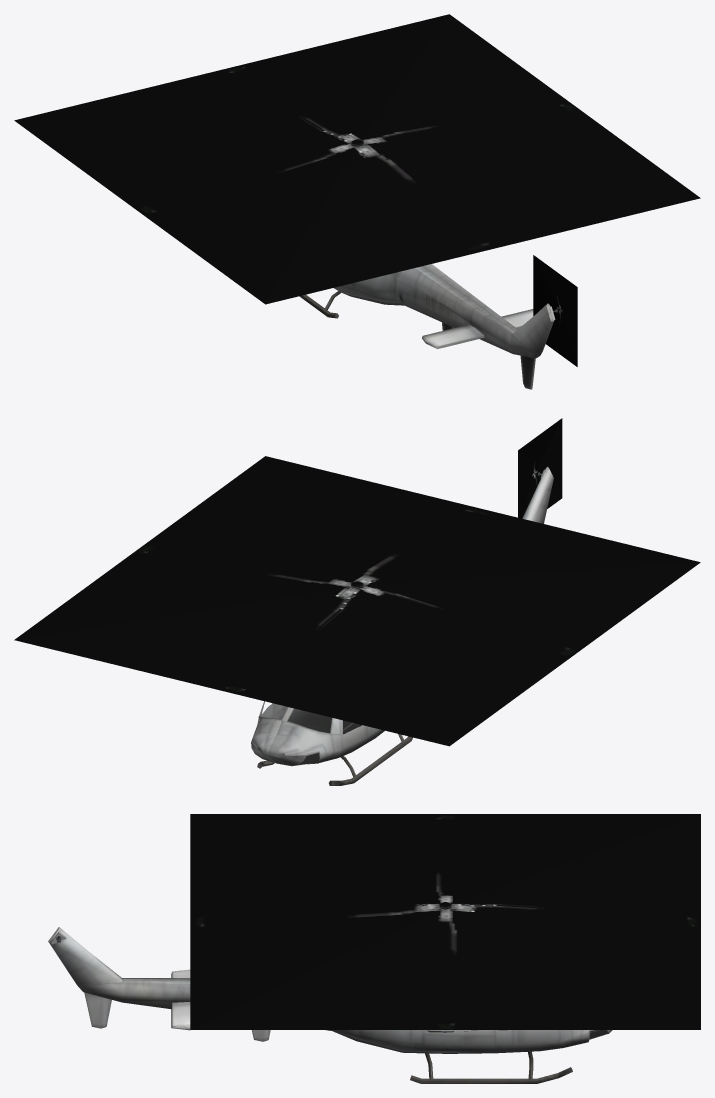
The picture shows the model from 3 angles, top to bottom: view 1: azimuth 30°, elevation 25°; view 2: azimuth 150°, elevation 25°; view 3: azimuth 270°, elevation 25°; orthographic projection.
Parts seen in each view (by area): view 1: rotor_blade, hull, rotor_blade_rear; view 2: rotor_blade, hull, rotor_blade_rear; view 3: rotor_blade, hull.
Boxes of the visible parts, box(x1,y1,x2,y2) form: rotor_blade: box(14, 14, 700, 304); hull: box(299, 139, 557, 389); rotor_blade_rear: box(533, 255, 577, 366); rotor_blade: box(14, 456, 700, 746); hull: box(251, 466, 553, 785); rotor_blade_rear: box(518, 418, 562, 518); rotor_blade: box(190, 814, 700, 1029); hull: box(48, 902, 612, 1083).
Bounding box in the file's own units: 9 × 3.27 × 12.1.
3 materials, 3 textured.
